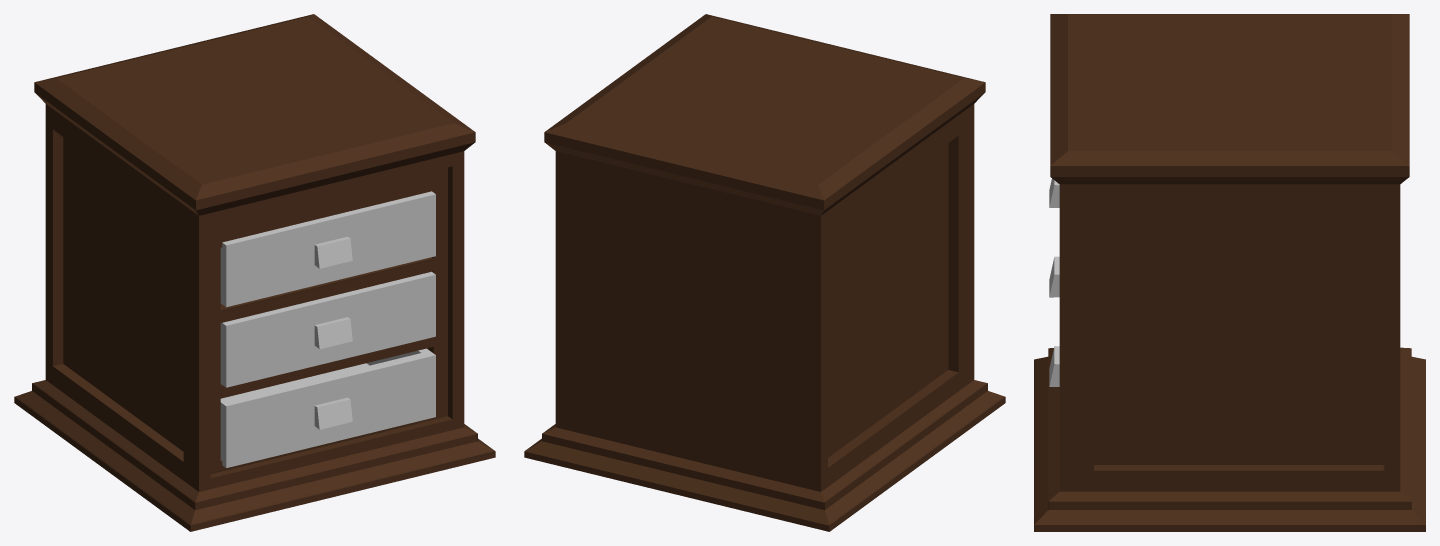
Rendered from MOD_Cajonera.fbx.
3 renders of one model, left to right at view 1: azimuth 30°, elevation 25°; view 2: azimuth 150°, elevation 25°; view 3: azimuth 270°, elevation 25°, orthographic. The views are drawn at different scales.
Visible parts, largest first — view 1: Cajon, Cajon1; view 2: Cajon; view 3: Cajon, Cajon1.
Boxes of the visible parts, <box> form: Cajon: <box>14,14,495,531</box>; Cajon1: <box>220,191,435,468</box>; Cajon: <box>524,14,1005,531</box>; Cajon: <box>1034,14,1425,531</box>; Cajon1: <box>1049,178,1059,386</box>.
Bounding box in the file's own units: 683 × 705 × 683.
